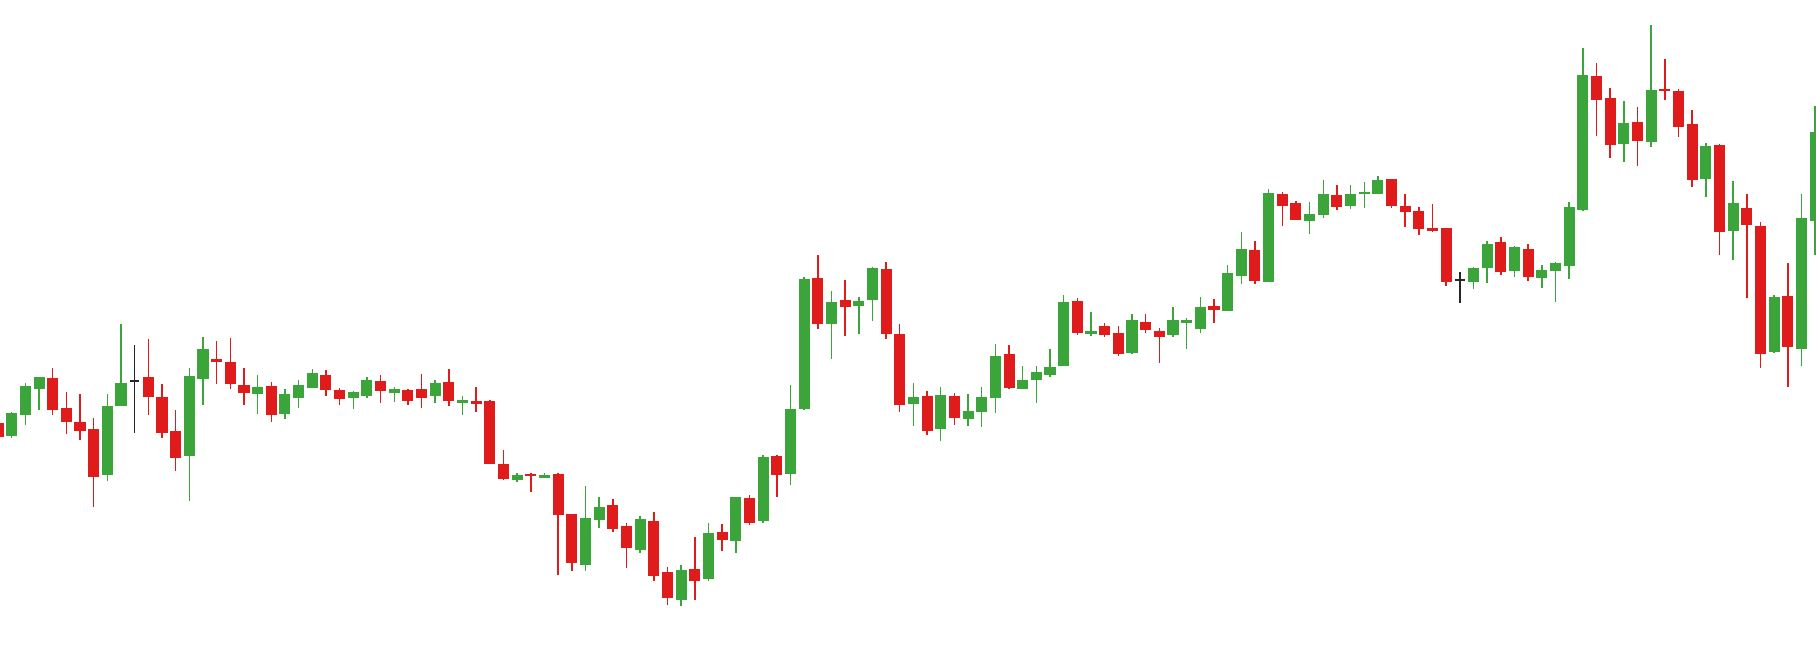sell: (1576, 20, 1670, 127)
